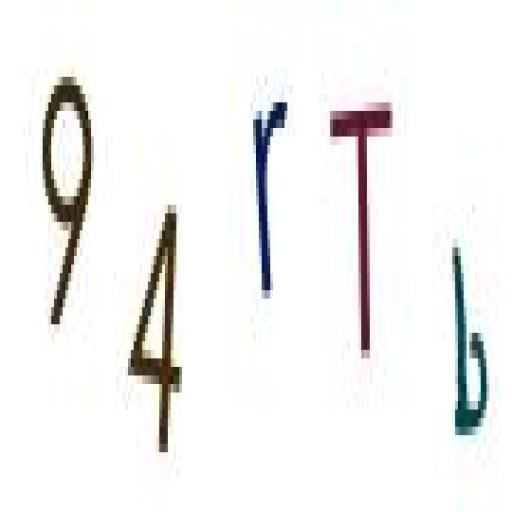4: (124, 192, 194, 470)
9: (37, 62, 95, 341)
T: (322, 83, 398, 384)
b: (448, 226, 492, 446)
r: (249, 85, 288, 310)
